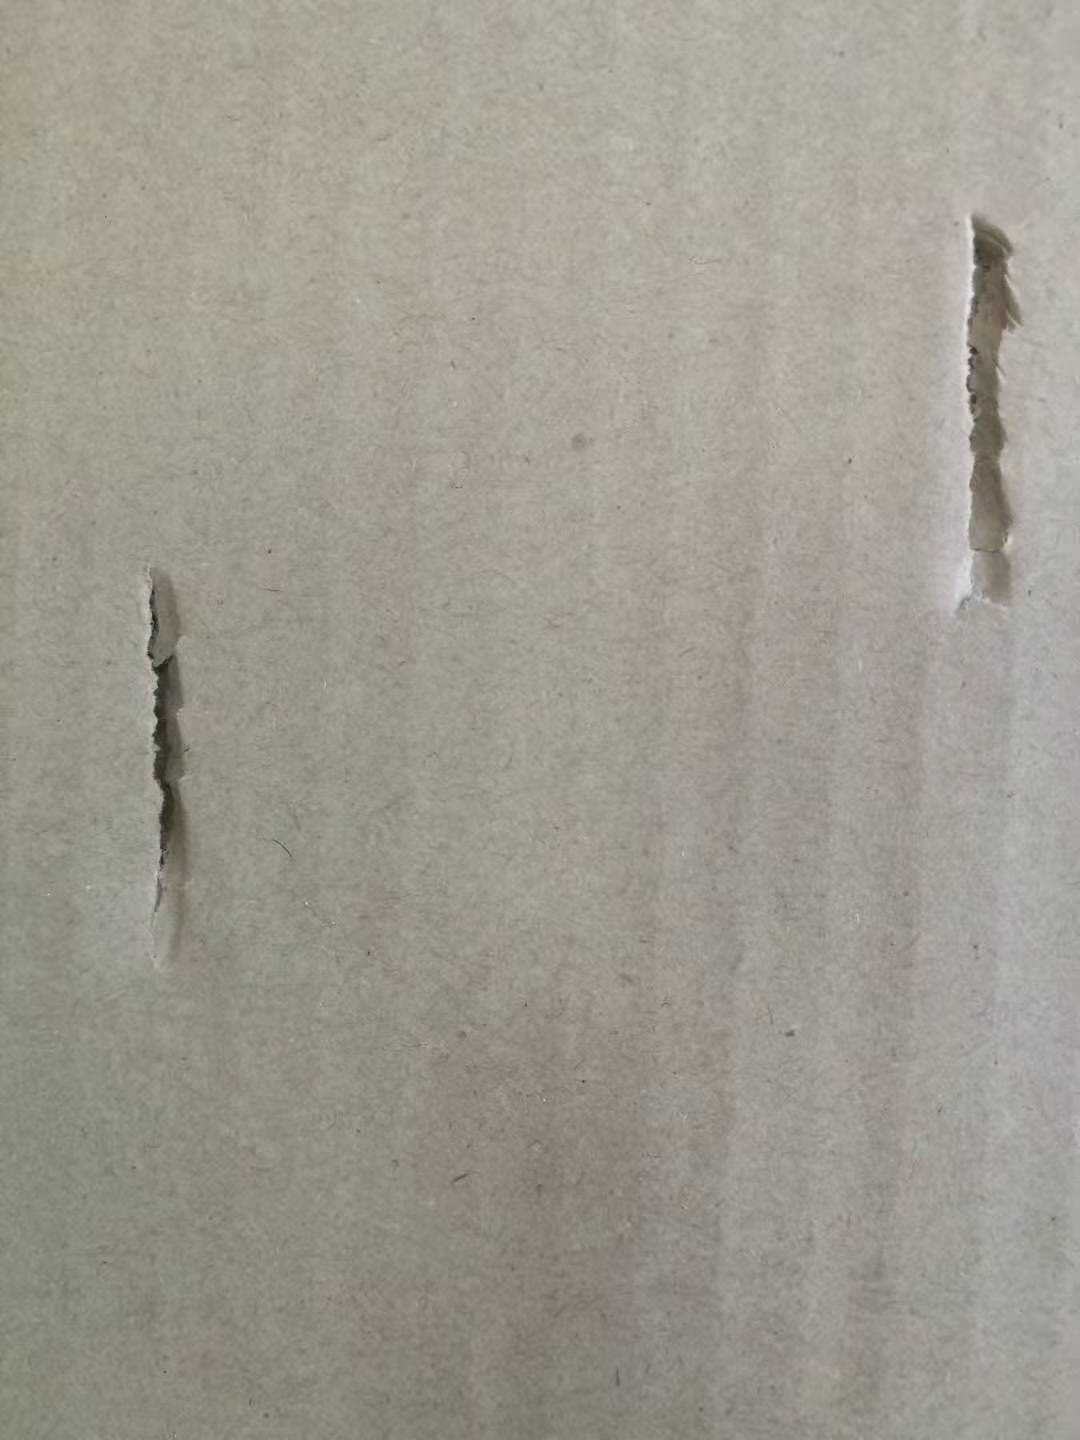defect: (902, 162, 1069, 674), (74, 527, 246, 993)
